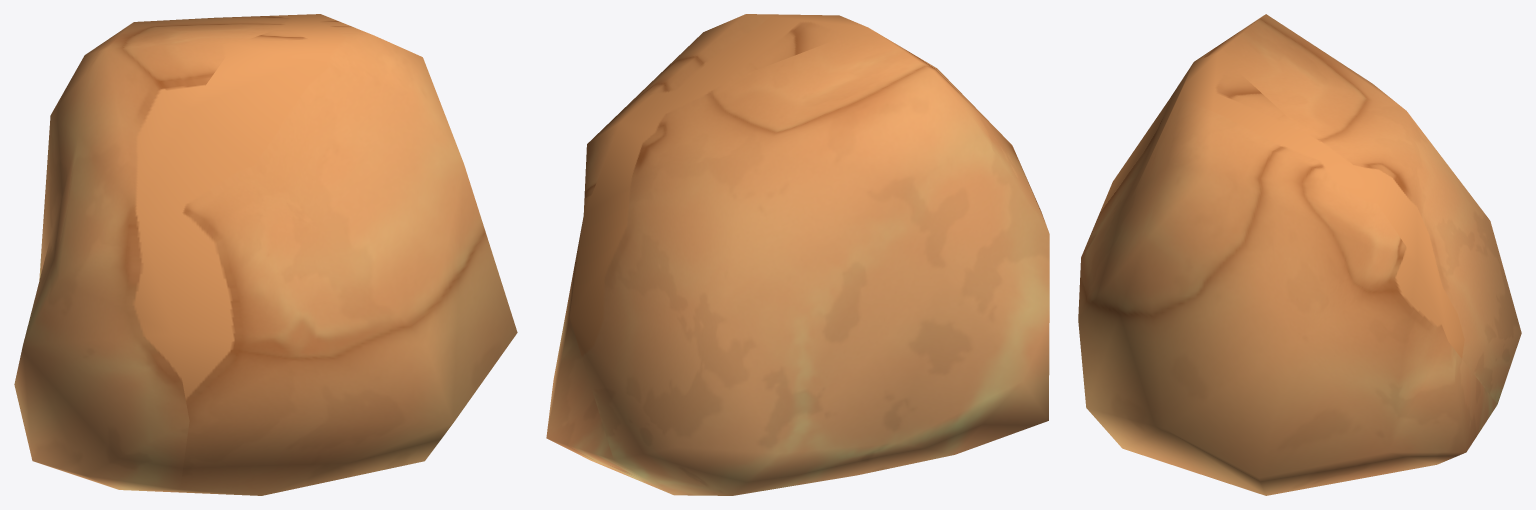
File: Subrock_2.fbx
3 views of the same model, side by side, from view 1: azimuth 30°, elevation 25°; view 2: azimuth 150°, elevation 25°; view 3: azimuth 270°, elevation 25° (orthographic). The views are drawn at different scales.
Visible parts, largest first — view 1: Rock_2_LOD0; view 2: Rock_2_LOD0; view 3: Rock_2_LOD0.
Boxes of the visible parts, box(x1,y1,x2,y2) form: Rock_2_LOD0: box(14, 14, 517, 495); Rock_2_LOD0: box(546, 14, 1049, 495); Rock_2_LOD0: box(1078, 14, 1521, 495).
Size of what is drawn, in the model's own units: 35.77 by 28.46 by 33.3.
